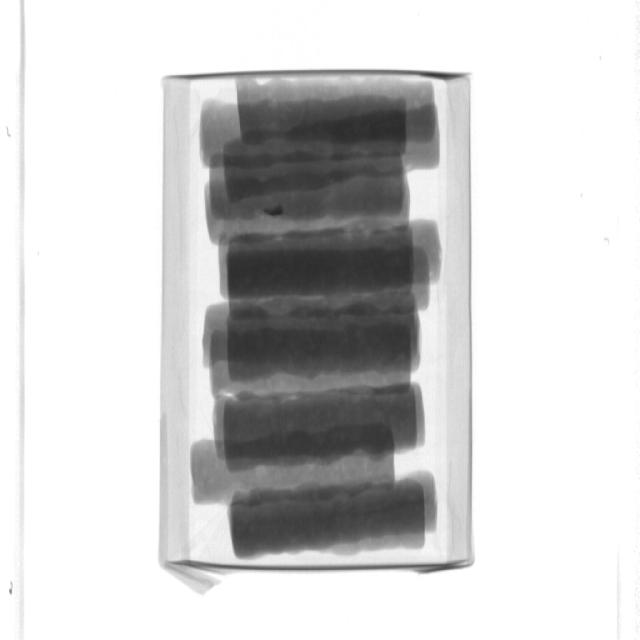ym: (264, 206, 285, 217)
